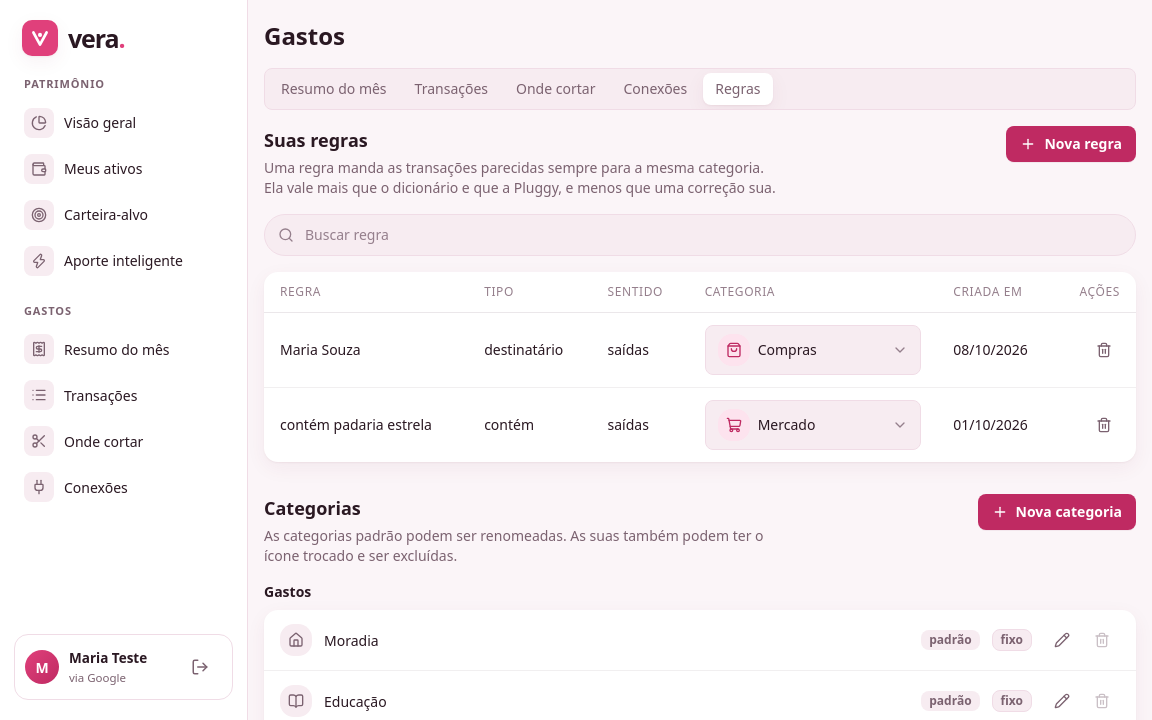
Test: RulesPage: regras › excluir pede confirmação e mostra o toast com a contagem
Expected: the heading "Suas regras" is shown, [264,128,368,152]
Expected: the text "Maria Souza" is shown, [280,340,361,359]
Click the button named "Excluir a regra Maria Souza": x=1104, y=350 [1088,334,1120,366]
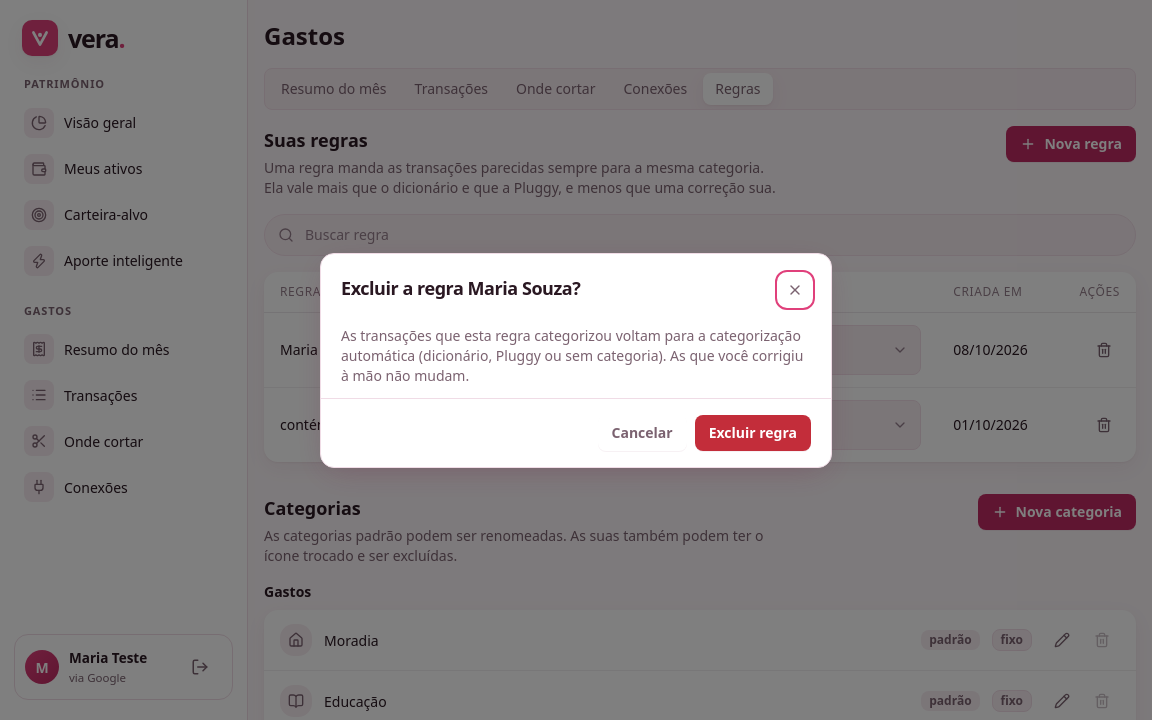
Result: the text "voltam para a categorização automática" is shown at [341,326,803,384]
Click the button "Excluir regra": x=753, y=432 [695,414,811,450]
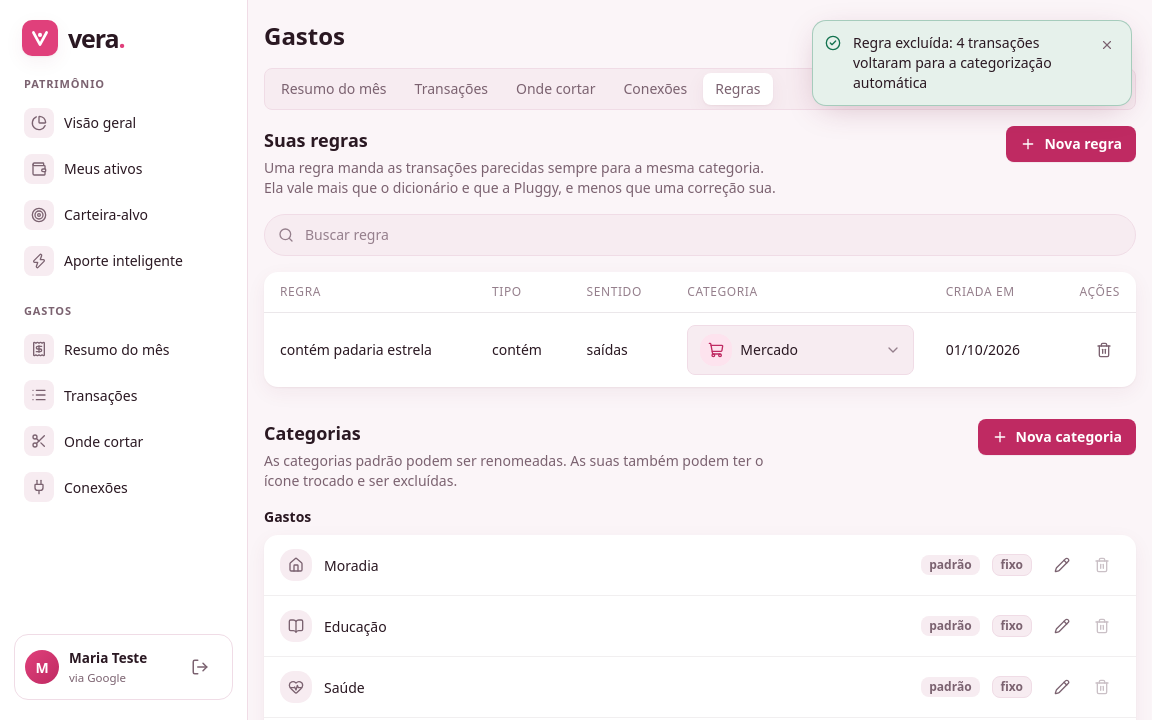
Result: the text "Regra excluída: 4 transações voltaram para a categorização automática" is shown at [853,33,1083,93]
